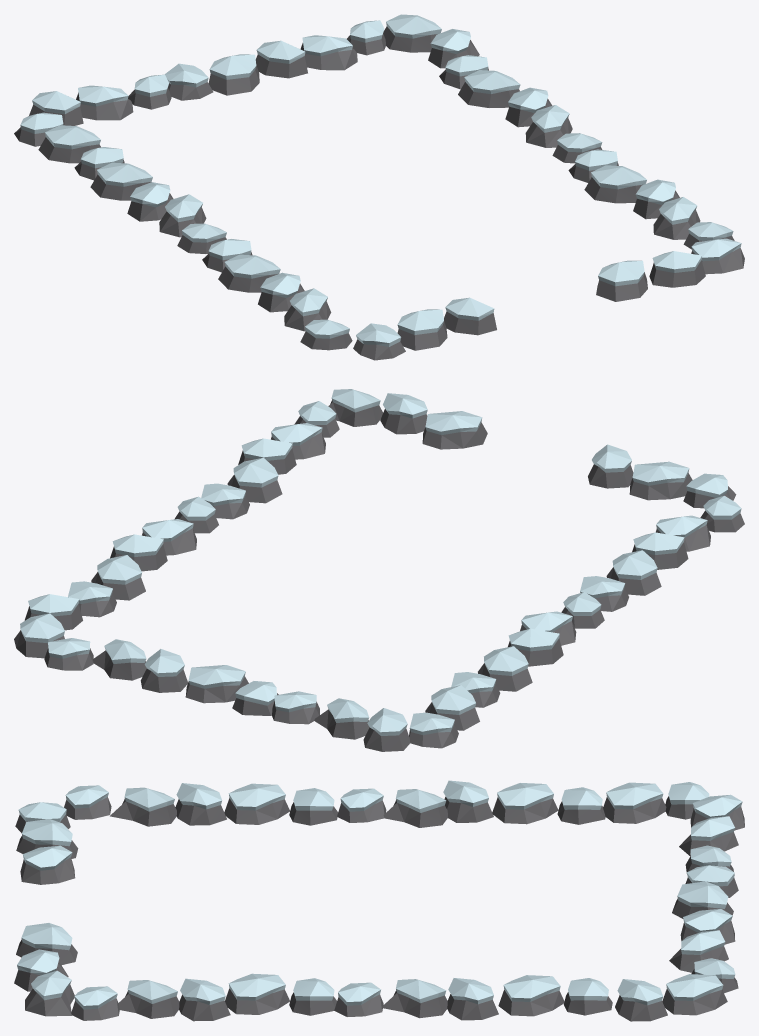
Rendered from Rocas_Casa_Larga01.glb.
3 views of the same model, one above another, from view 1: azimuth 30°, elevation 25°; view 2: azimuth 150°, elevation 25°; view 3: azimuth 270°, elevation 25° (orthographic). The views are drawn at different scales.
Parts seen in each view (by area): view 1: SM_Env_House_Rocks_Large_01_Snow; view 2: SM_Env_House_Rocks_Large_01_Snow; view 3: SM_Env_House_Rocks_Large_01_Snow.
Boxes of the visible parts, x1,y1,x2,y2 form: SM_Env_House_Rocks_Large_01_Snow: [14, 14, 744, 360]; SM_Env_House_Rocks_Large_01_Snow: [14, 389, 744, 751]; SM_Env_House_Rocks_Large_01_Snow: [14, 780, 744, 1021].
Size of the model in its own units: 5.86 by 0.3257 by 8.04.
Materials: 1 (1 with a texture image).
